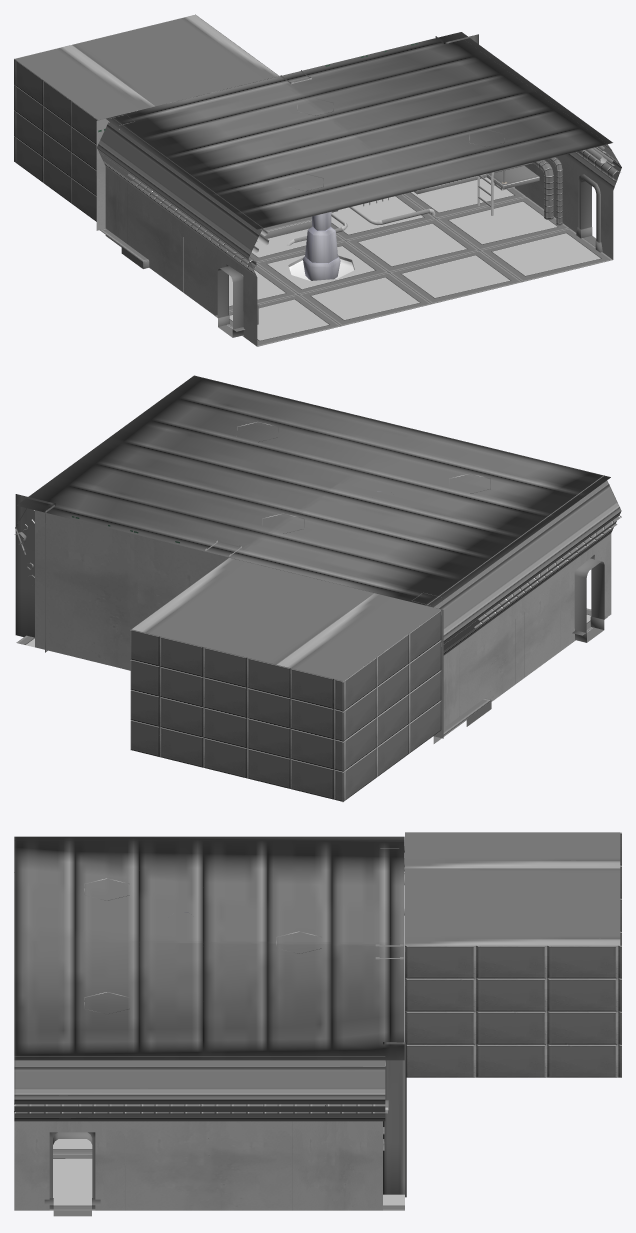
File: MSH_Power_Plant_room_L2_R2_optimized.fbx
The picture shows the model from 3 angles, top to bottom: view 1: azimuth 30°, elevation 25°; view 2: azimuth 150°, elevation 25°; view 3: azimuth 270°, elevation 25°; orthographic projection. The views are drawn at different scales.
Parts seen in each view (by area): view 1: lightmap1, lightmap-1, MSH_Power_Plant_room_ani01 1; view 2: lightmap1, lightmap-1; view 3: lightmap1, lightmap-1.
Part boxes in pixels (x1,y1,x2,y2): lightmap1: (14,14,621,346); lightmap-1: (217,180,596,337); MSH_Power_Plant_room_ani01 1: (302,154,340,280); lightmap1: (14,375,621,801); lightmap-1: (574,558,604,642); lightmap1: (14,832,621,1210); lightmap-1: (53,1132,92,1216).
Bounding box in the file's own units: 20.62 × 6.73 × 22.55.
